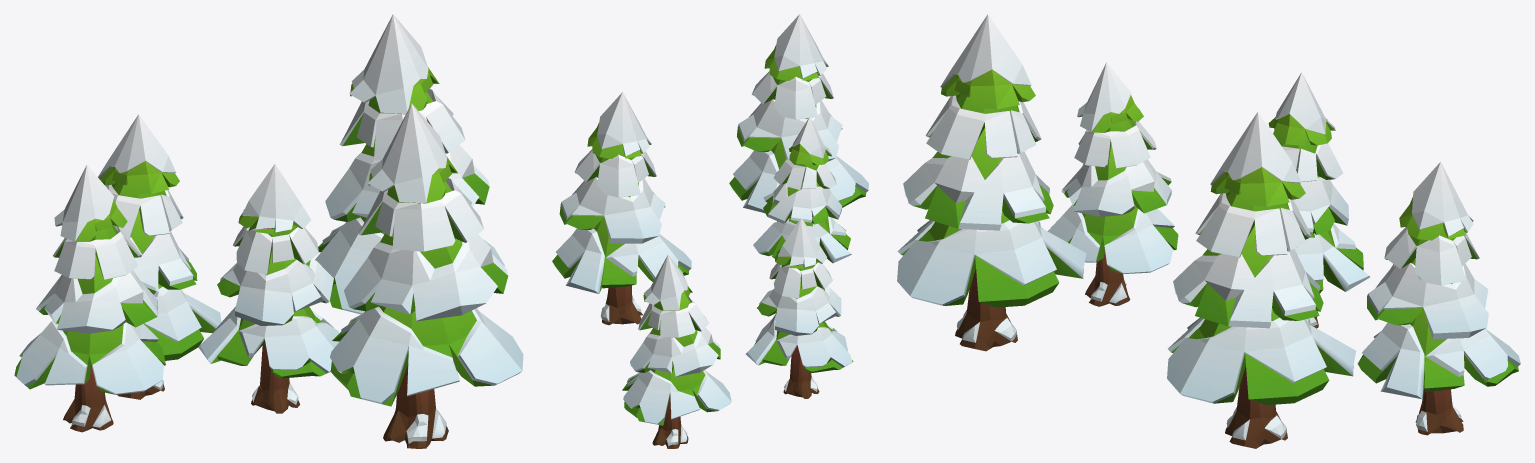
The picture shows the model from 3 angles, left to right: view 1: azimuth 30°, elevation 25°; view 2: azimuth 150°, elevation 25°; view 3: azimuth 270°, elevation 25°; orthographic projection. The views are drawn at different scales.
Visible parts, largest first — view 1: SnowyTree (9), SnowyTree (10), SnowyTree (8), SnowyTree (6), SnowyTree (7); view 2: SnowyTree (6), SnowyTree (9), SnowyTree (7), SnowyTree (10), SnowyTree (8); view 3: SnowyTree (9), SnowyTree (6), SnowyTree (7), SnowyTree (8), SnowyTree (10).
Part boxes in pixels (x1=…): SnowyTree (9): x1=330, y1=103, x2=523, y2=448; SnowyTree (10): x1=14, y1=165, x2=165, y2=432; SnowyTree (8): x1=198, y1=164, x2=338, y2=413; SnowyTree (6): x1=315, y1=14, x2=504, y2=314; SnowyTree (7): x1=98, y1=114, x2=221, y2=399; SnowyTree (6): x1=552, y1=92, x2=691, y2=325; SnowyTree (9): x1=729, y1=14, x2=868, y2=213; SnowyTree (7): x1=622, y1=255, x2=731, y2=448; SnowyTree (10): x1=745, y1=218, x2=853, y2=398; SnowyTree (8): x1=753, y1=116, x2=851, y2=263; SnowyTree (9): x1=897, y1=14, x2=1086, y2=351; SnowyTree (6): x1=1167, y1=112, x2=1356, y2=448; SnowyTree (7): x1=1357, y1=162, x2=1520, y2=435; SnowyTree (8): x1=1047, y1=62, x2=1178, y2=306; SnowyTree (10): x1=1268, y1=72, x2=1369, y2=328.
Bounding box in the file's own units: 520 × 500 × 653.
1 material, 1 textured.
